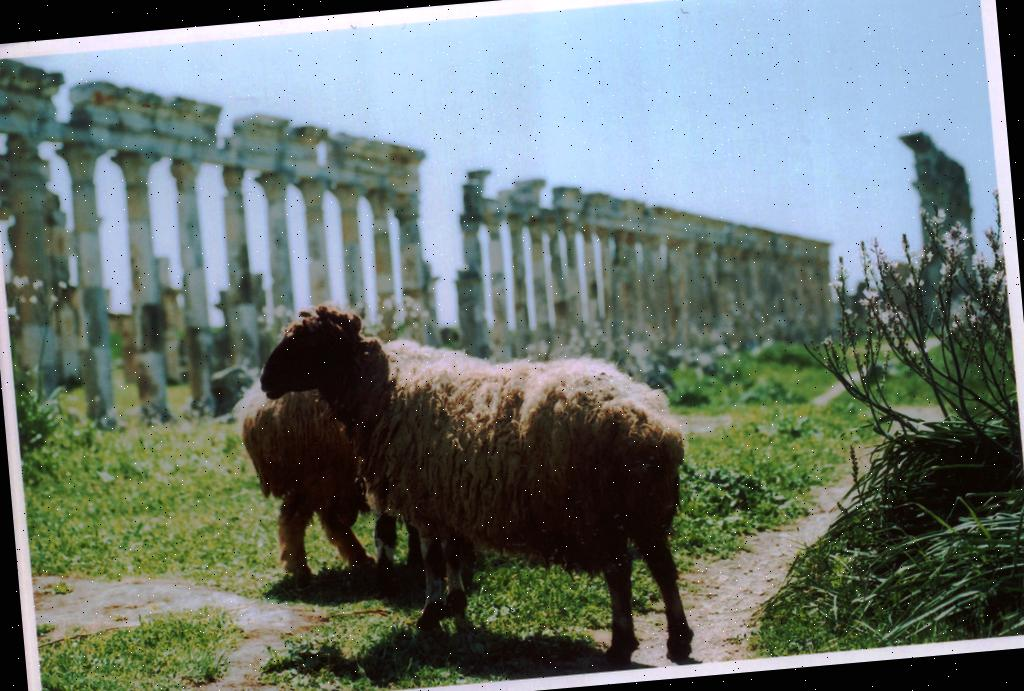Sheep: (252, 273, 704, 691), (230, 363, 420, 587)
